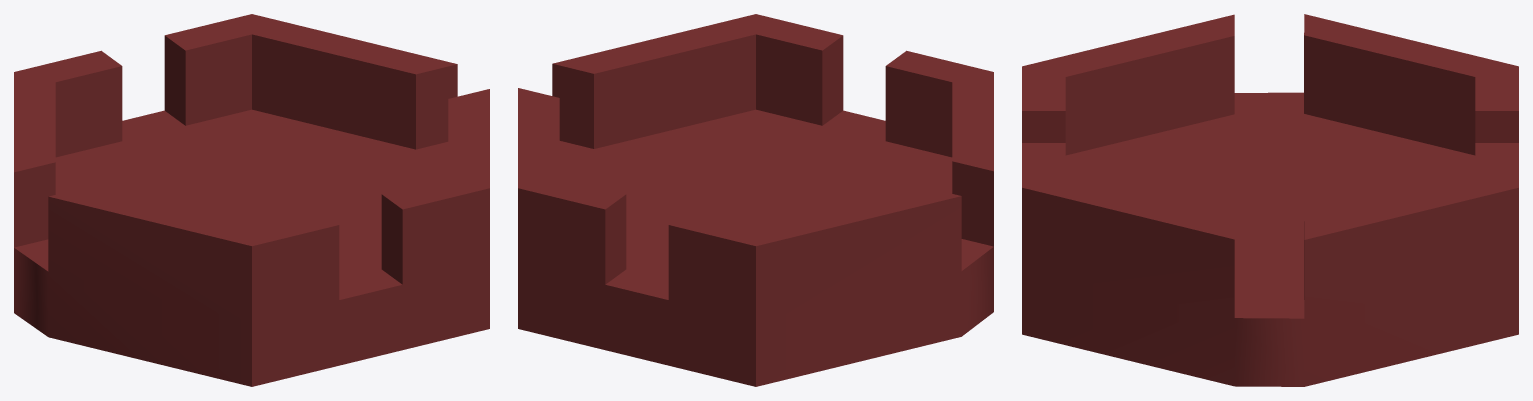
Rendered from Ashtray.fbx.
The picture shows the model from 3 angles, left to right: view 1: azimuth 30°, elevation 25°; view 2: azimuth 150°, elevation 25°; view 3: azimuth 270°, elevation 25°; orthographic projection. The views are drawn at different scales.
Visible parts, largest first — view 1: Cenicero1; view 2: Cenicero1; view 3: Cenicero1.
Boxes of the visible parts, <box> form: Cenicero1: <box>14,14,489,386</box>; Cenicero1: <box>518,14,993,386</box>; Cenicero1: <box>1022,14,1518,386</box>.
Size of the model in its own units: 0.5169 by 0.1567 by 0.4803.
